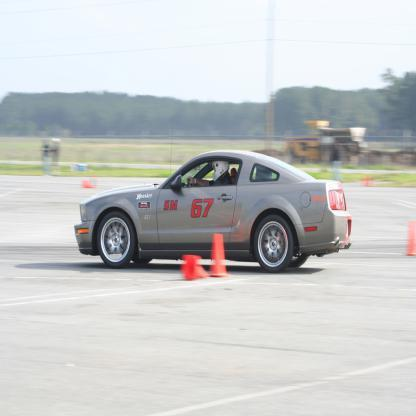car: (73, 148, 351, 271)
